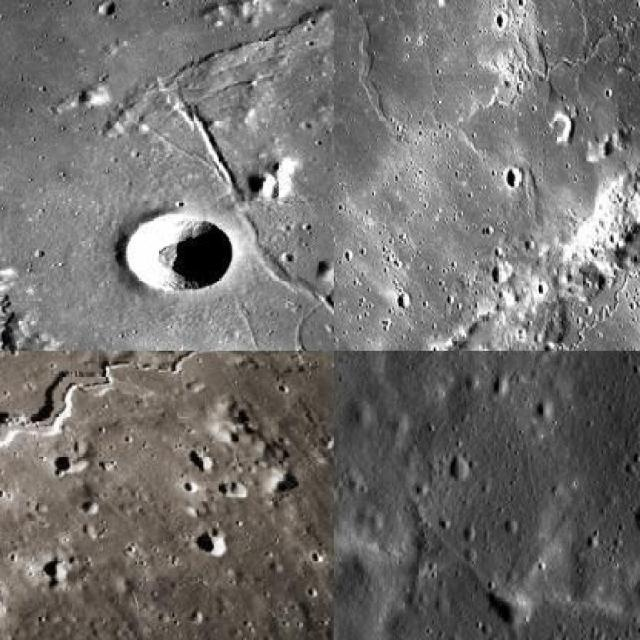crater: (2, 0, 326, 349), (335, 85, 640, 349), (2, 351, 266, 526), (405, 466, 640, 638), (172, 103, 334, 349)
